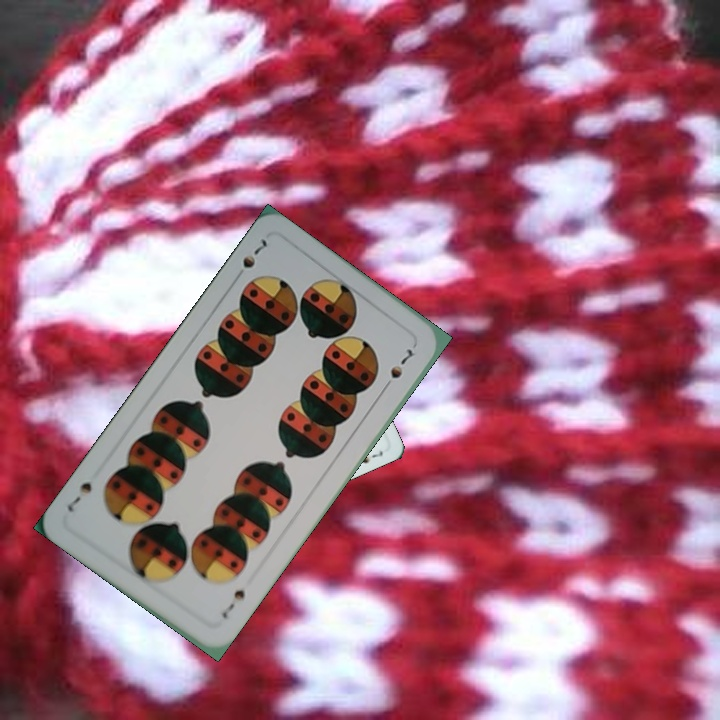S7: (238, 233, 270, 271), (218, 585, 248, 622)
